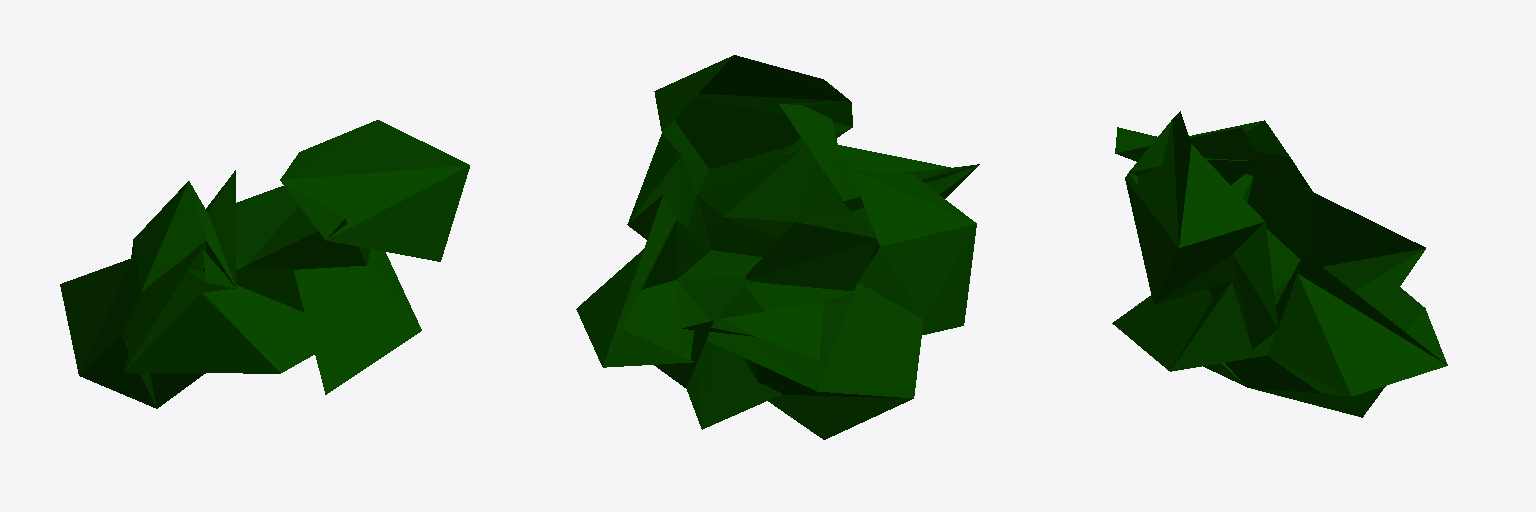
File: wallmoss_1.obj
3 renders of one model, left to right at view 1: azimuth 30°, elevation 25°; view 2: azimuth 150°, elevation 25°; view 3: azimuth 270°, elevation 25°, orthographic.
Visible parts, largest first — view 1: Cube.033_Cube.032; view 2: Cube.033_Cube.032; view 3: Cube.033_Cube.032.
Part boxes in pixels (x1,y1,x2,y2): Cube.033_Cube.032: (60,120,469,408); Cube.033_Cube.032: (576,55,979,439); Cube.033_Cube.032: (1112,111,1447,417).
Bounding box in the file's own units: 0.7626 × 0.665 × 0.6762.